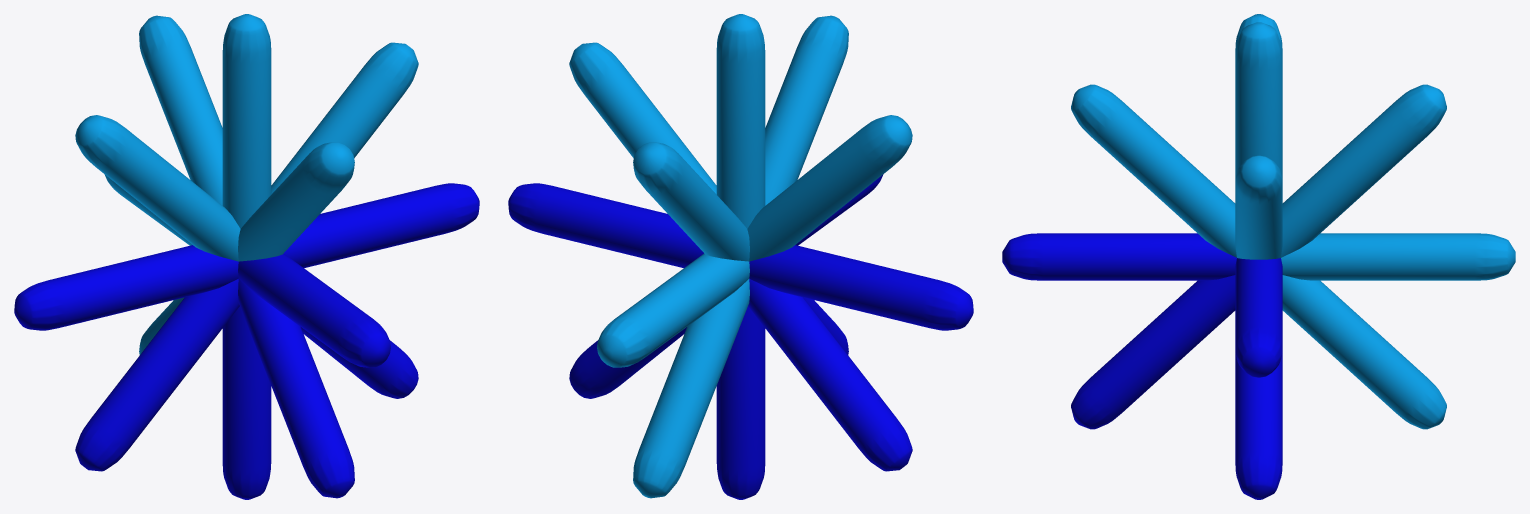
The picture shows the model from 3 angles, left to right: view 1: azimuth 30°, elevation 25°; view 2: azimuth 150°, elevation 25°; view 3: azimuth 270°, elevation 25°; orthographic projection. The views are drawn at different scales.
Visible parts, largest first — view 1: Cylinder.013, Cylinder.010, Cylinder.002, Cylinder, Cylinder.008, Cylinder.011, Cylinder.005, Cylinder.001, Cylinder.007, Cylinder.004, Cylinder.009, Cylinder.012 (+2 smaller); view 2: Cylinder.013, Cylinder.010, Cylinder.006, Cylinder, Cylinder.008, Cylinder.011, Cylinder.004, Cylinder.001, Cylinder.003, Cylinder.005, Cylinder.009, Cylinder.012 (+2 smaller); view 3: Cylinder.003, Cylinder.007, Cylinder.004, Cylinder.005, Cylinder.002, Cylinder.006, Cylinder, Cylinder.012, Cylinder.011, Cylinder.009.
Boxes of the visible parts, box(x1,y1,x2,y2) form: Cylinder.013: box(75, 279, 239, 471); Cylinder.010: box(14, 245, 238, 330); Cylinder.002: box(238, 279, 354, 498); Cylinder: box(222, 14, 271, 228); Cylinder.008: box(75, 115, 240, 261); Cylinder.011: box(284, 183, 479, 268); Cylinder.005: box(139, 15, 222, 205); Cylinder.001: box(222, 306, 271, 499); Cylinder.007: box(238, 253, 390, 367); Cylinder.004: box(238, 142, 354, 261); Cylinder.009: box(271, 42, 418, 194); Cylinder.012: box(301, 327, 418, 398); Cylinder.013: box(748, 279, 912, 471); Cylinder.010: box(749, 245, 973, 330); Cylinder.006: box(633, 279, 749, 498); Cylinder: box(716, 14, 765, 228); Cylinder.008: box(747, 115, 912, 261); Cylinder.011: box(508, 183, 703, 268); Cylinder.004: box(765, 15, 848, 205); Cylinder.001: box(716, 306, 765, 499); Cylinder.003: box(597, 253, 749, 367); Cylinder.005: box(633, 142, 749, 261); Cylinder.009: box(569, 42, 716, 194); Cylinder.012: box(569, 327, 686, 398); Cylinder.003: box(1281, 233, 1515, 280); Cylinder.007: box(1002, 233, 1236, 280); Cylinder.004: box(1071, 84, 1236, 257); Cylinder.005: box(1281, 84, 1446, 257); Cylinder.002: box(1071, 275, 1235, 429); Cylinder.006: box(1282, 275, 1446, 429); Cylinder: box(1235, 22, 1282, 180); Cylinder.012: box(1235, 351, 1282, 499); Cylinder.011: box(1235, 258, 1282, 377); Cylinder.009: box(1235, 155, 1282, 259).
Size of the model in its own units: 1006 by 1006 by 1006.
